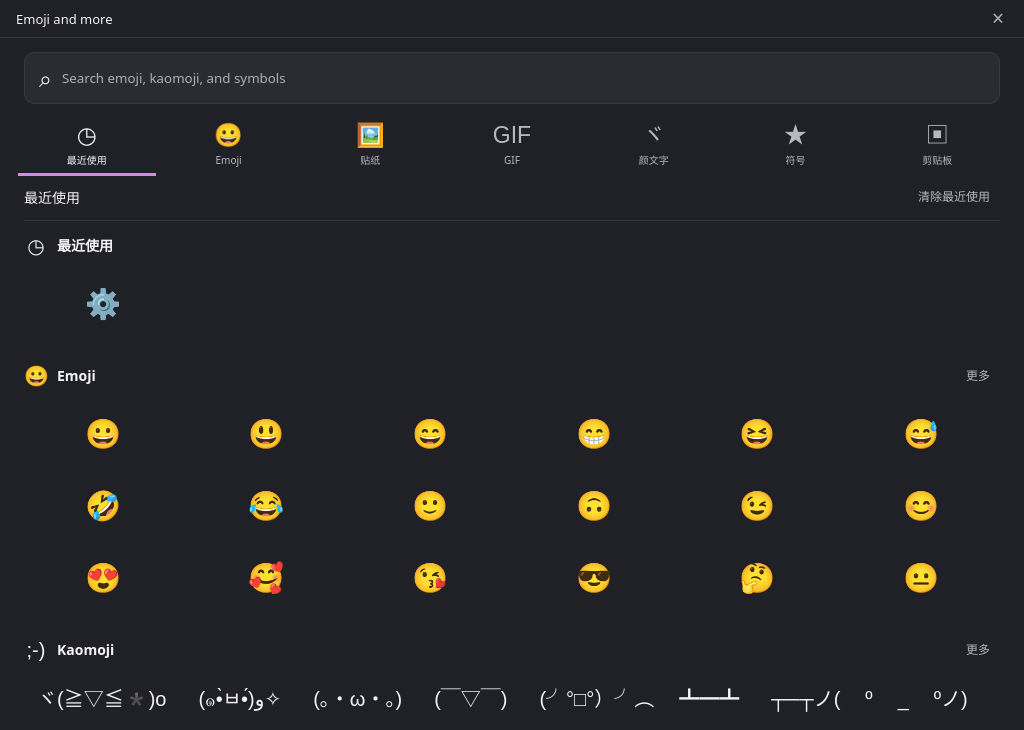
Test: recent tab with history but no search match shows no results
Click the button "😀 Emoji" at coordinates (229, 144), box [160, 112, 297, 176]
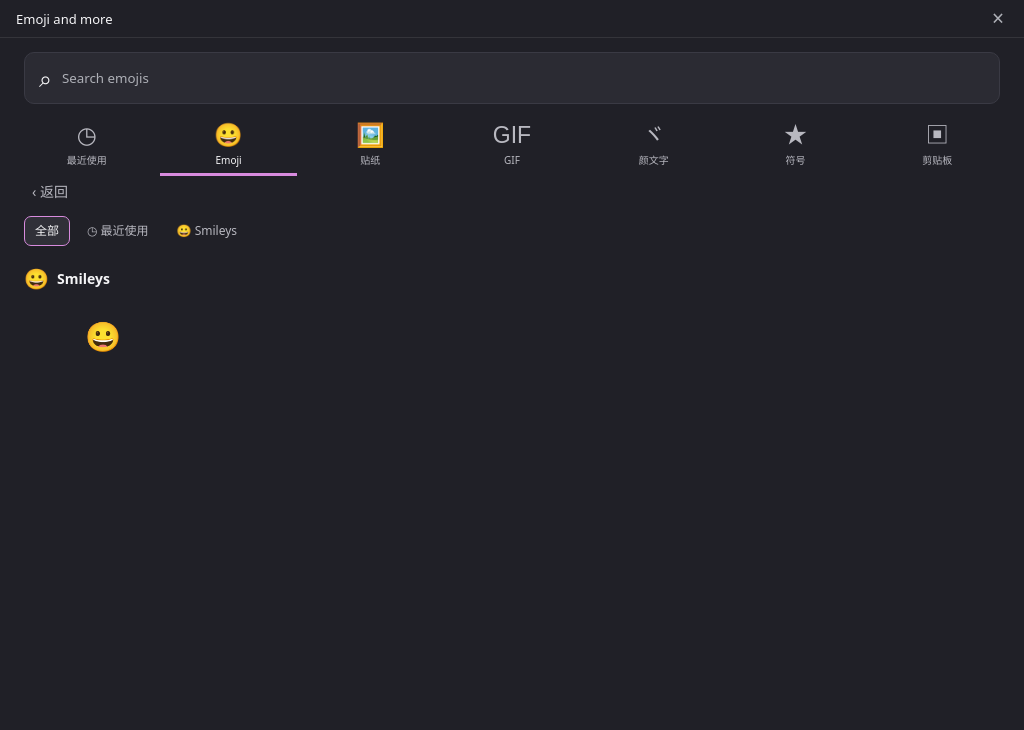
Click the 2nd button "◷ 最近使用" at coordinates (118, 231), box [76, 216, 160, 246]
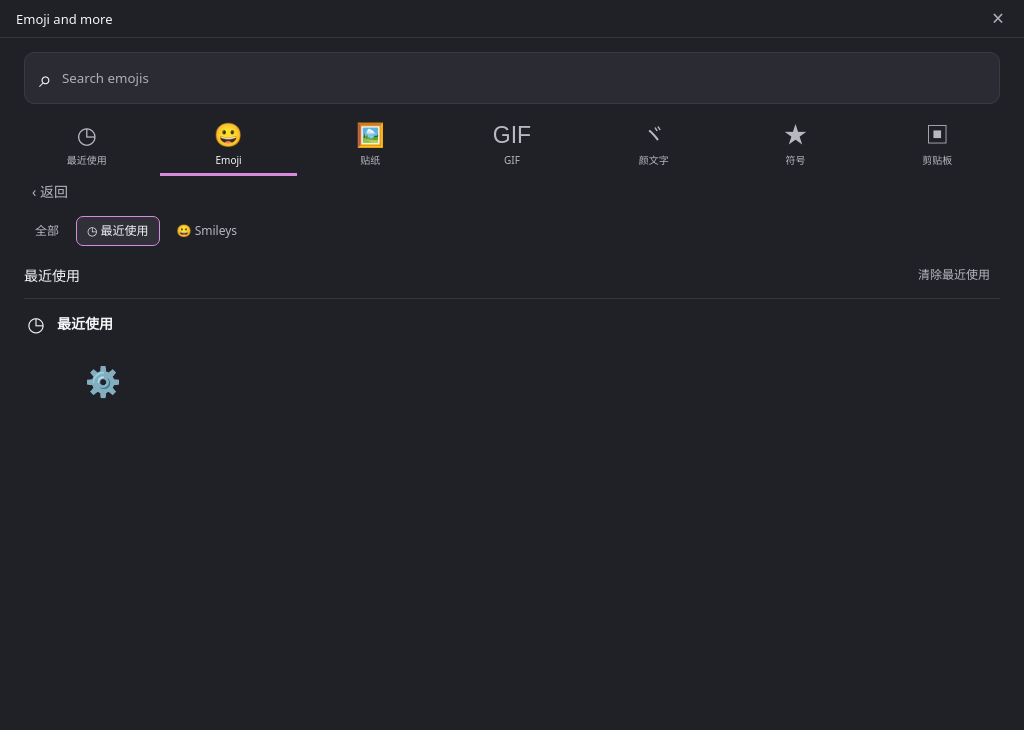
Type "synthetic" into the field named "搜索" at coordinates (522, 78), box [60, 68, 985, 88]
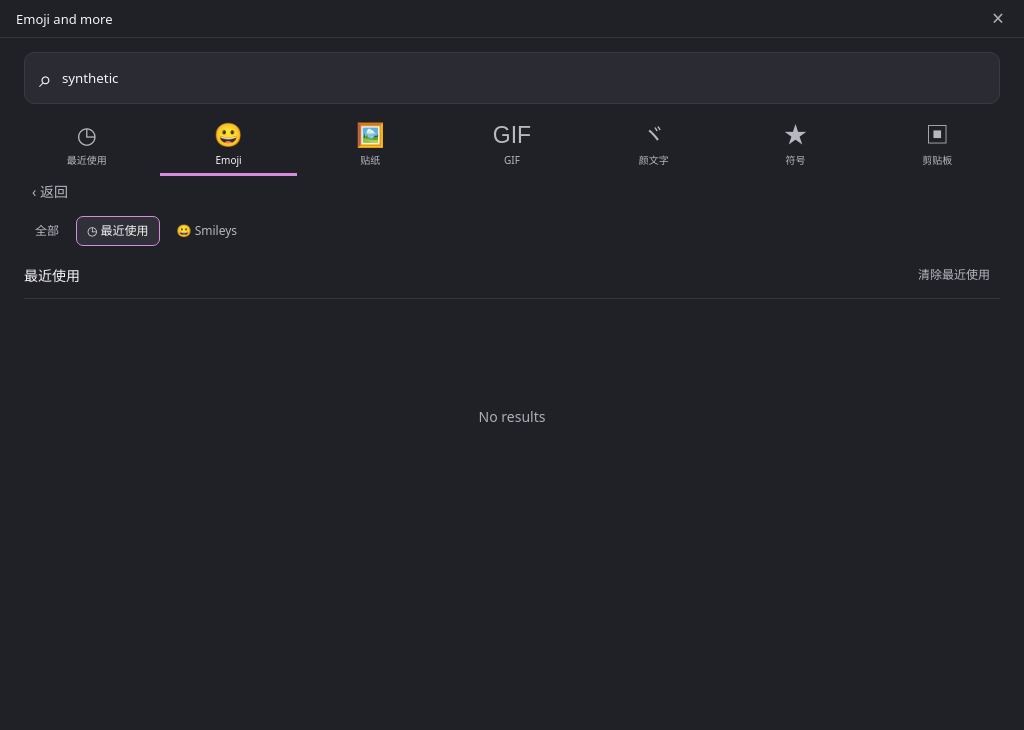
Expected: the text "No results" is shown, [478, 407, 545, 426]
